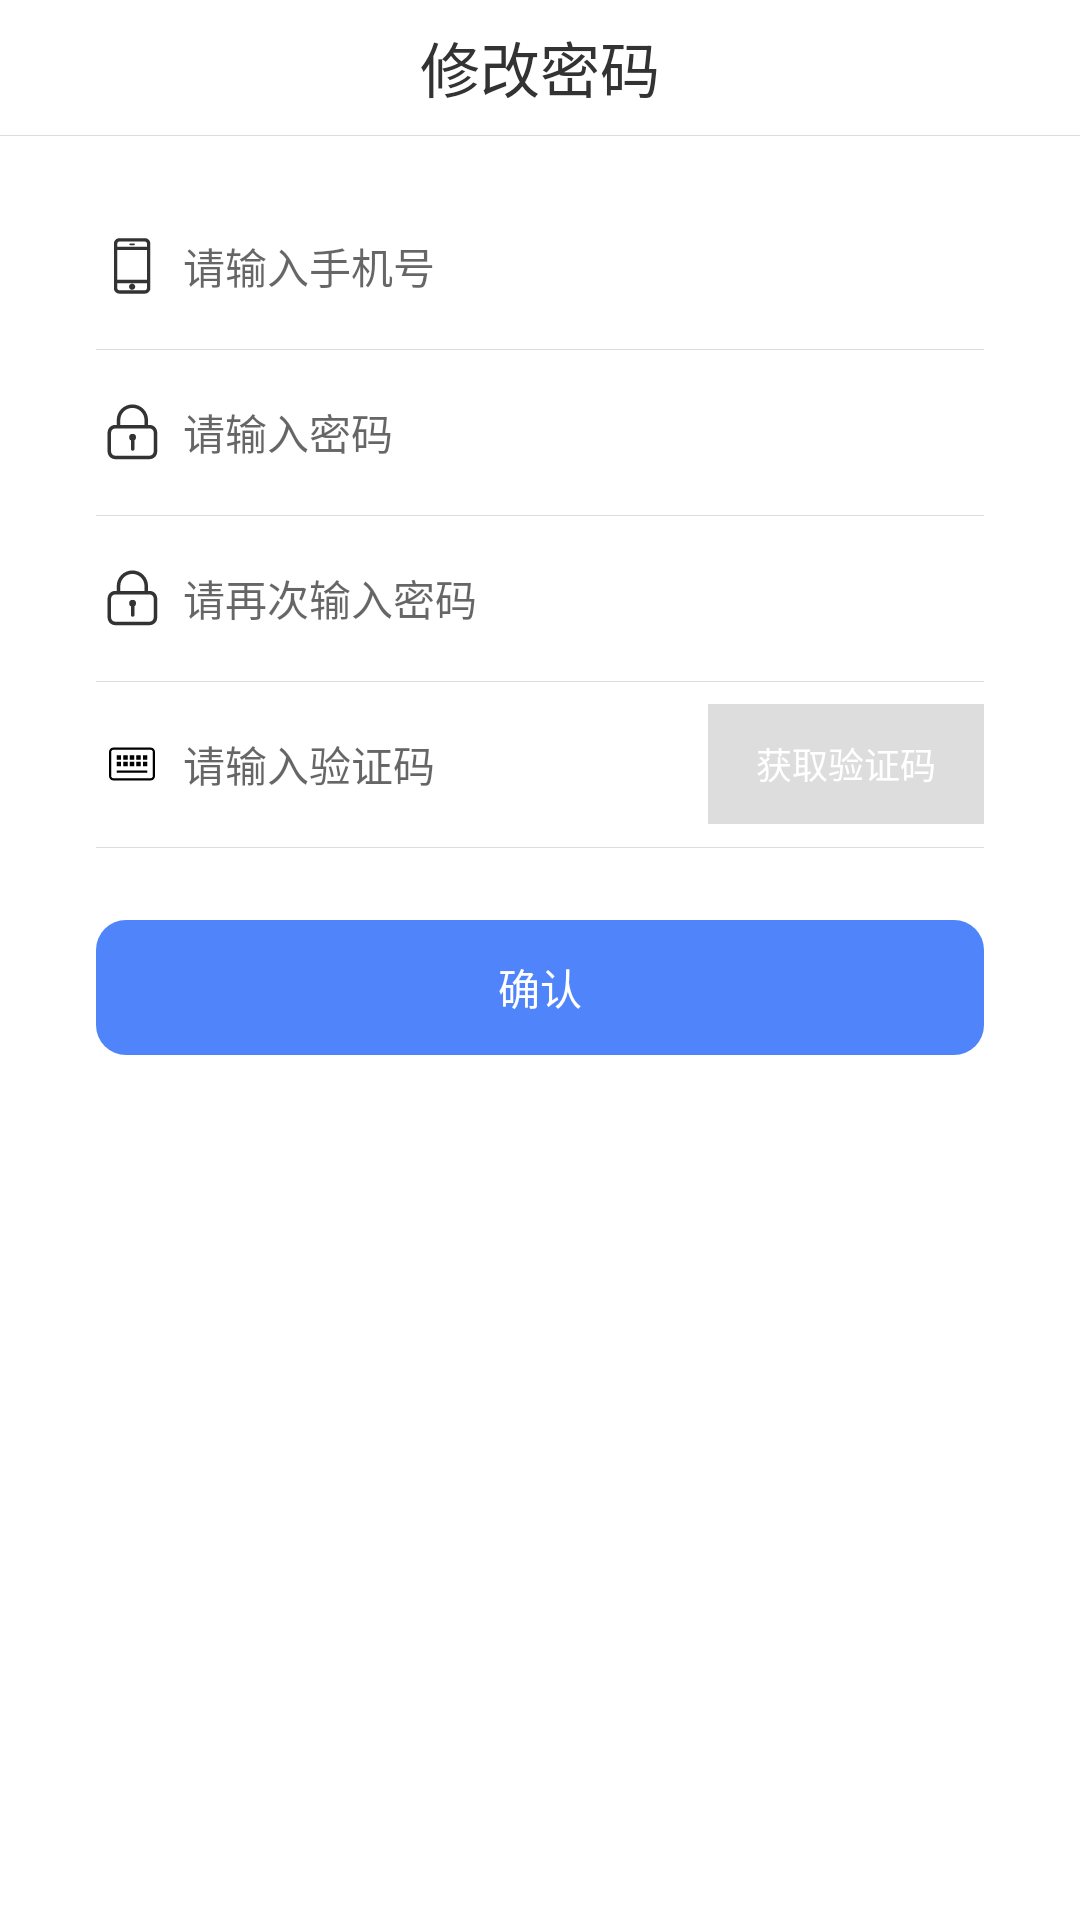

Icons on this 1080 × 1920 Android screen, each with the point to tap as (x=x, y=y):
keyboard: (x=132, y=764)
phone: (x=132, y=266)
